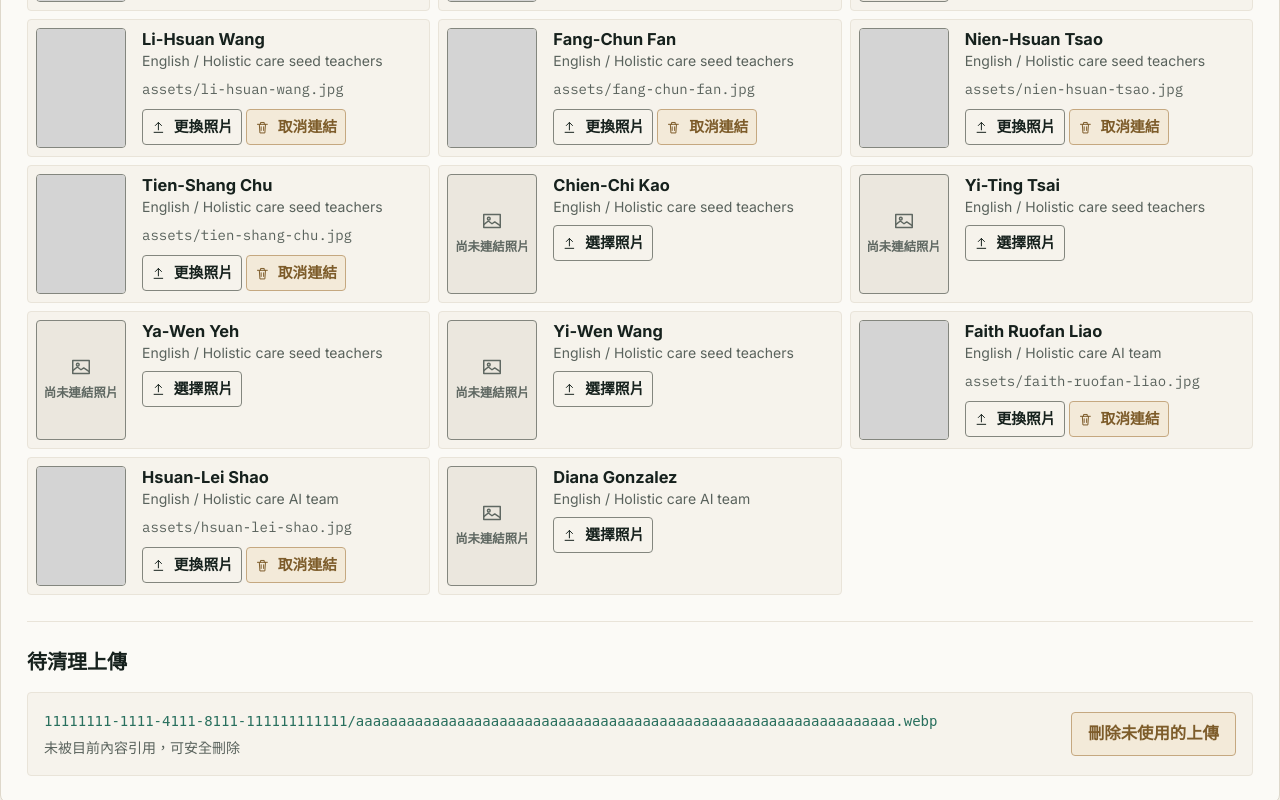
Test: AdminMediaWorkbench cleanup › returns rejected explicit cleanup to a non-busy terminal state
(page scrolled)
Click the button "刪除未使用的上傳": (1153,734) [1071, 712, 1236, 756]
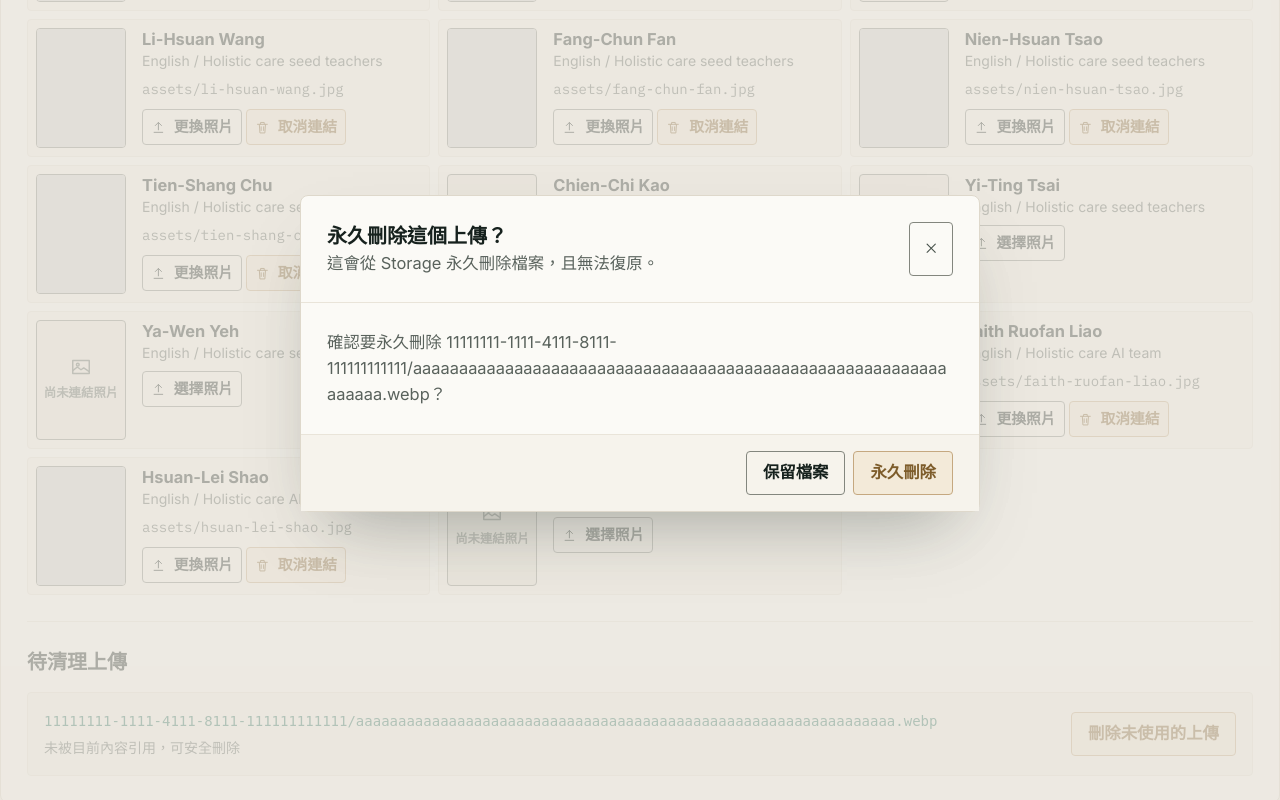
Click the button "永久刪除": (903,472) [853, 450, 953, 494]
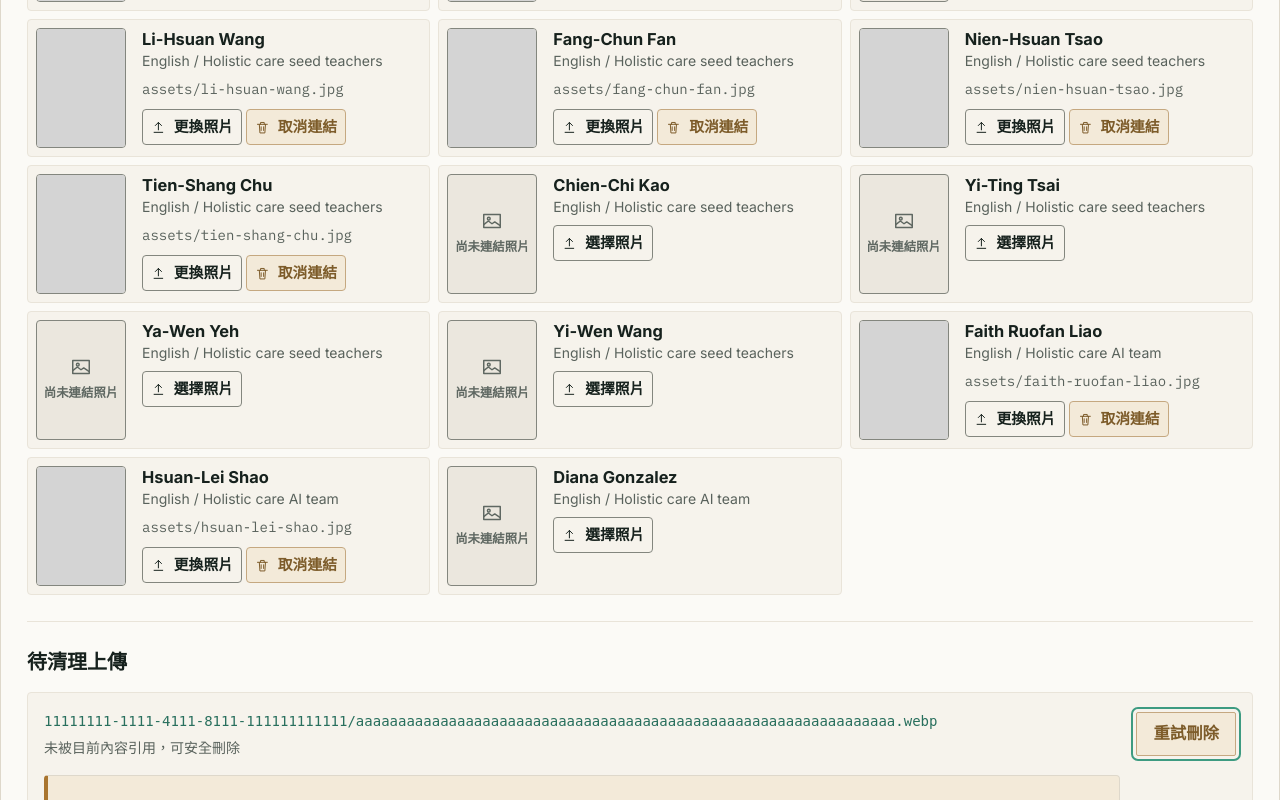
expect the button named "刪除未使用的上傳" is enabled: met, box [1136, 712, 1236, 756]
expect the dialog is gone: met
